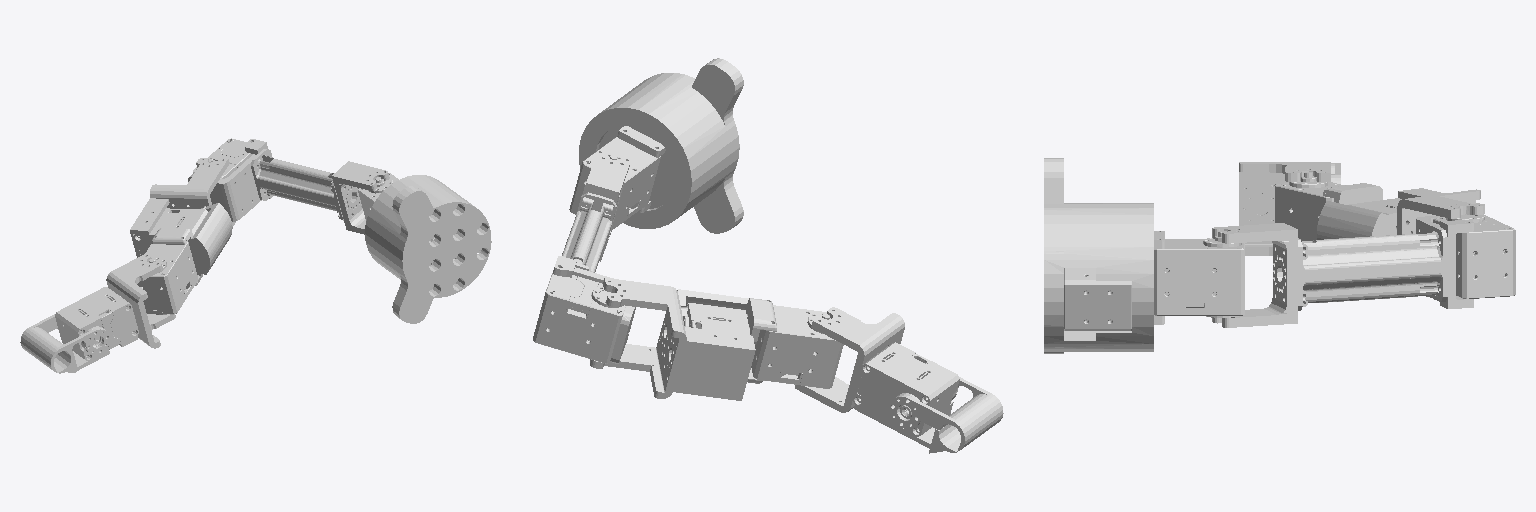
robot.urdf — Industry_gyu_arm_20260723_3rd_position:
<?xml version="1.0" encoding="utf-8"?>
<!-- This URDF was automatically created by SolidWorks to URDF Exporter! Originally created by Stephen Brawner (brawner@gmail.com) 
     Commit Version: 1.6.0-4-g7f85cfe  Build Version: 1.6.7995.38578
     For more information, please see http://wiki.ros.org/sw_urdf_exporter -->
<robot
  name="Industry_gyu_arm_20260723_3rd_position">
  <link
    name="base_link">
    <inertial>
      <origin
        xyz="-0.00257845457715766 0.0239066269220647 1.3532561262798E-11"
        rpy="0 0 0" />
      <mass
        value="0.204101816796774" />
      <inertia
        ixx="0.000132404157180028"
        ixy="-7.25933326524075E-06"
        ixz="-1.38380898968537E-14"
        iyy="0.000166652752484632"
        iyz="2.16319568216498E-14"
        izz="0.000120628429559104" />
    </inertial>
    <visual>
      <origin
        xyz="0 0 0"
        rpy="0 0 0" />
      <geometry>
        <mesh
          filename="package://Industry_gyu_arm_20260723_3rd_position/meshes/base_link.STL" />
      </geometry>
      <material
        name="">
        <color
          rgba="0.894117647058823 0.894117647058823 0.894117647058823 1" />
      </material>
    </visual>
    <collision>
      <origin
        xyz="0 0 0"
        rpy="0 0 0" />
      <geometry>
        <mesh
          filename="package://Industry_gyu_arm_20260723_3rd_position/meshes/base_link.STL" />
      </geometry>
    </collision>
  </link>
  <link
    name="l1">
    <inertial>
      <origin
        xyz="-6.60359345451278E-05 0.0680540116378744 0.000246336211269599"
        rpy="0 0 0" />
      <mass
        value="0.0672202475276212" />
      <inertia
        ixx="3.11743968040591E-05"
        ixy="4.7648484113007E-08"
        ixz="5.64454792294074E-07"
        iyy="1.81526886683869E-05"
        iyz="-1.7774957234565E-07"
        izz="2.92200831800777E-05" />
    </inertial>
    <visual>
      <origin
        xyz="0 0 0"
        rpy="0 0 0" />
      <geometry>
        <mesh
          filename="package://Industry_gyu_arm_20260723_3rd_position/meshes/l1.STL" />
      </geometry>
      <material
        name="">
        <color
          rgba="0.894117647058823 0.894117647058823 0.894117647058823 1" />
      </material>
    </visual>
    <collision>
      <origin
        xyz="0 0 0"
        rpy="0 0 0" />
      <geometry>
        <mesh
          filename="package://Industry_gyu_arm_20260723_3rd_position/meshes/l1.STL" />
      </geometry>
    </collision>
  </link>
  <joint
    name="j1"
    type="revolute">
    <origin
      xyz="0 0 0"
      rpy="0 0 0" />
    <parent
      link="base_link" />
    <child
      link="l1" />
    <axis
      xyz="0 -1 0" />
    <limit
      lower="0"
      upper="0"
      effort="0"
      velocity="0" />
  </joint>
  <link
    name="l2">
    <inertial>
      <origin
        xyz="-0.0457257532560488 0.144982224882411 -0.0124606249133573"
        rpy="0 0 0" />
      <mass
        value="0.0860000273183046" />
      <inertia
        ixx="0.000142221452869294"
        ixy="6.09010175775001E-05"
        ixz="-9.80991889197822E-06"
        iyy="6.11043198138851E-05"
        iyz="1.67858449722226E-05"
        izz="0.000175309195101507" />
    </inertial>
    <visual>
      <origin
        xyz="0 0 0"
        rpy="0 0 0" />
      <geometry>
        <mesh
          filename="package://Industry_gyu_arm_20260723_3rd_position/meshes/l2.STL" />
      </geometry>
      <material
        name="">
        <color
          rgba="0.894117647058823 0.894117647058823 0.894117647058823 1" />
      </material>
    </visual>
    <collision>
      <origin
        xyz="0 0 0"
        rpy="0 0 0" />
      <geometry>
        <mesh
          filename="package://Industry_gyu_arm_20260723_3rd_position/meshes/l2.STL" />
      </geometry>
    </collision>
  </link>
  <joint
    name="j2"
    type="revolute">
    <origin
      xyz="0 0.044 0"
      rpy="0 0 0" />
    <parent
      link="l1" />
    <child
      link="l2" />
    <axis
      xyz="-0.25893 0 0.9659" />
    <limit
      lower="0"
      upper="0"
      effort="0"
      velocity="0" />
  </joint>
  <link
    name="l3">
    <inertial>
      <origin
        xyz="-0.112846785956237 0.0963765233346295 -0.0544668891698307"
        rpy="0 0 0" />
      <mass
        value="0.0655347274640485" />
      <inertia
        ixx="2.40217867060235E-05"
        ixy="-3.84494894713705E-06"
        ixz="-3.3005787850252E-06"
        iyy="3.12730522578541E-05"
        iyz="-1.01687480433129E-06"
        izz="3.54642398322091E-05" />
    </inertial>
    <visual>
      <origin
        xyz="0 0 0"
        rpy="0 0 0" />
      <geometry>
        <mesh
          filename="package://Industry_gyu_arm_20260723_3rd_position/meshes/l3.STL" />
      </geometry>
      <material
        name="">
        <color
          rgba="0.894117647058823 0.894117647058823 0.894117647058823 1" />
      </material>
    </visual>
    <collision>
      <origin
        xyz="0 0 0"
        rpy="0 0 0" />
      <geometry>
        <mesh
          filename="package://Industry_gyu_arm_20260723_3rd_position/meshes/l3.STL" />
      </geometry>
    </collision>
  </link>
  <joint
    name="j3"
    type="revolute">
    <origin
      xyz="-0.0060589 0.0455 0.022602"
      rpy="0 0 0" />
    <parent
      link="l2" />
    <child
      link="l3" />
    <axis
      xyz="0.25893 0 -0.9659" />
    <limit
      lower="0"
      upper="0"
      effort="0"
      velocity="0" />
  </joint>
  <link
    name="l4">
    <inertial>
      <origin
        xyz="-0.0728717735006678 -0.0675596813111309 -0.0388434190458101"
        rpy="0 0 0" />
      <mass
        value="0.0601054954113976" />
      <inertia
        ixx="1.74336031933473E-05"
        ixy="-1.08111675573001E-05"
        ixz="-5.7172257999783E-06"
        iyy="3.70537633025027E-05"
        iyz="-2.81290816075198E-06"
        izz="3.80038604097142E-05" />
    </inertial>
    <visual>
      <origin
        xyz="0 0 0"
        rpy="0 0 0" />
      <geometry>
        <mesh
          filename="package://Industry_gyu_arm_20260723_3rd_position/meshes/l4.STL" />
      </geometry>
      <material
        name="">
        <color
          rgba="0.894117647058823 0.894117647058823 0.894117647058823 1" />
      </material>
    </visual>
    <collision>
      <origin
        xyz="0 0 0"
        rpy="0 0 0" />
      <geometry>
        <mesh
          filename="package://Industry_gyu_arm_20260723_3rd_position/meshes/l4.STL" />
      </geometry>
    </collision>
  </link>
  <joint
    name="j4"
    type="revolute">
    <origin
      xyz="-0.067281 0.12198 -0.022591"
      rpy="0 0 0" />
    <parent
      link="l3" />
    <child
      link="l4" />
    <axis
      xyz="0.77011 0.60358 0.20644" />
    <limit
      lower="0"
      upper="0"
      effort="0"
      velocity="0" />
  </joint>
  <link
    name="l5">
    <inertial>
      <origin
        xyz="-0.112674552325727 -0.0546377218502914 -0.0319273443277"
        rpy="0 0 0" />
      <mass
        value="0.068117923249218" />
      <inertia
        ixx="1.99315252772566E-05"
        ixy="5.85699185833627E-07"
        ixz="-8.10510412725415E-06"
        iyy="4.16685804118928E-05"
        iyz="2.21378193499852E-07"
        izz="3.79658150758429E-05" />
    </inertial>
    <visual>
      <origin
        xyz="0 0 0"
        rpy="0 0 0" />
      <geometry>
        <mesh
          filename="package://Industry_gyu_arm_20260723_3rd_position/meshes/l5.STL" />
      </geometry>
      <material
        name="">
        <color
          rgba="0.894117647058823 0.894117647058823 0.894117647058823 1" />
      </material>
    </visual>
    <collision>
      <origin
        xyz="0 0 0"
        rpy="0 0 0" />
      <geometry>
        <mesh
          filename="package://Industry_gyu_arm_20260723_3rd_position/meshes/l5.STL" />
      </geometry>
    </collision>
  </link>
  <joint
    name="j5"
    type="revolute">
    <origin
      xyz="-0.030075 -0.030034 -0.027733"
      rpy="0 0 0" />
    <parent
      link="l4" />
    <child
      link="l5" />
    <axis
      xyz="-0.25893 0 0.9659" />
    <limit
      lower="0"
      upper="0"
      effort="0"
      velocity="0" />
  </joint>
  <link
    name="l6">
    <inertial>
      <origin
        xyz="-0.084371 -0.0047867 -0.042975"
        rpy="0 0 0" />
      <mass
        value="0.0055793" />
      <inertia
        ixx="1.5641E-06"
        ixy="-3.6017E-08"
        ixz="-2.0846E-07"
        iyy="1.3699E-06"
        iyz="-9.7322E-09"
        izz="2.5997E-06" />
    </inertial>
    <visual>
      <origin
        xyz="0 0 0"
        rpy="0 0 0" />
      <geometry>
        <mesh
          filename="package://Industry_gyu_arm_20260723_3rd_position/meshes/l6.STL" />
      </geometry>
      <material
        name="">
        <color
          rgba="0.89412 0.89412 0.89412 1" />
      </material>
    </visual>
    <collision>
      <origin
        xyz="0 0 0"
        rpy="0 0 0" />
      <geometry>
        <mesh
          filename="package://Industry_gyu_arm_20260723_3rd_position/meshes/l6.STL" />
      </geometry>
    </collision>
  </link>
  <joint
    name="j6"
    type="revolute">
    <origin
      xyz="-0.067933 -0.048775 0.006082"
      rpy="0 0 0" />
    <parent
      link="l5" />
    <child
      link="l6" />
    <axis
      xyz="0 1 0" />
    <limit
      lower="0"
      upper="0"
      effort="0"
      velocity="0" />
  </joint>
</robot>

--- Facts derived from the render (not from the file) ---
Views: 3 orthographic renders of the robot side by side, from view 1: azimuth 30°, elevation 25°; view 2: azimuth 150°, elevation 25°; view 3: azimuth 270°, elevation 25°.
Robot: Industry_gyu_arm_20260723_3rd_position — 7 links, 6 joints (6 revolute); root link base_link; default pose: all joints at 0.
Links seen in each view (by area): view 1: base_link, l2, l5, l4, l3, l6, l1; view 2: base_link, l3, l2, l5, l4, l1, l6; view 3: l2, base_link, l1, l4, l5, l3.
Link boxes in pixels (x1=…): base_link: x1=365, y1=175, x2=491, y2=323; l2: x1=188, y1=138, x2=389, y2=234; l5: x1=54, y1=253, x2=175, y2=373; l4: x1=137, y1=203, x2=232, y2=314; l3: x1=130, y1=158, x2=235, y2=257; l6: x1=20, y1=314, x2=109, y2=372; l1: x1=358, y1=173, x2=398, y2=220; base_link: x1=579, y1=58, x2=743, y2=233; l3: x1=590, y1=278, x2=755, y2=400; l2: x1=533, y1=150, x2=635, y2=363; l5: x1=795, y1=307, x2=960, y2=453; l4: x1=677, y1=289, x2=843, y2=388; l1: x1=569, y1=126, x2=674, y2=230; l6: x1=890, y1=377, x2=1003, y2=451; l2: x1=1212, y1=214, x2=1515, y2=327; base_link: x1=1044, y1=158, x2=1153, y2=353; l1: x1=1154, y1=231, x2=1244, y2=324; l4: x1=1275, y1=172, x2=1396, y2=241; l5: x1=1239, y1=162, x2=1334, y2=255; l3: x1=1349, y1=188, x2=1484, y2=298.
Size in the robot's own frame: 0.3098 by 0.2364 by 0.1374 metres.
7 mesh visuals loaded from 7 distinct referenced files (7 binary STL).
